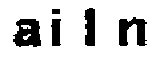I: (80, 4, 111, 54)
a: (7, 17, 43, 50)
i: (49, 7, 67, 48)
n: (116, 15, 152, 53)
